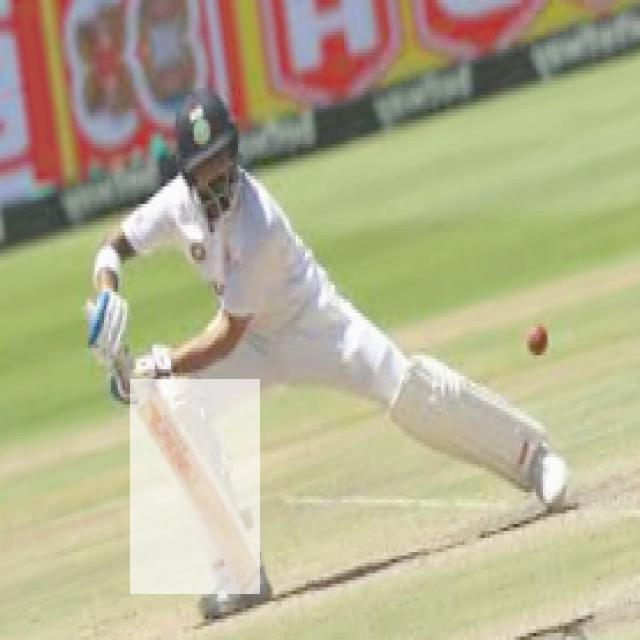bat: (130, 378, 263, 593)
toe: (233, 567, 261, 594)
